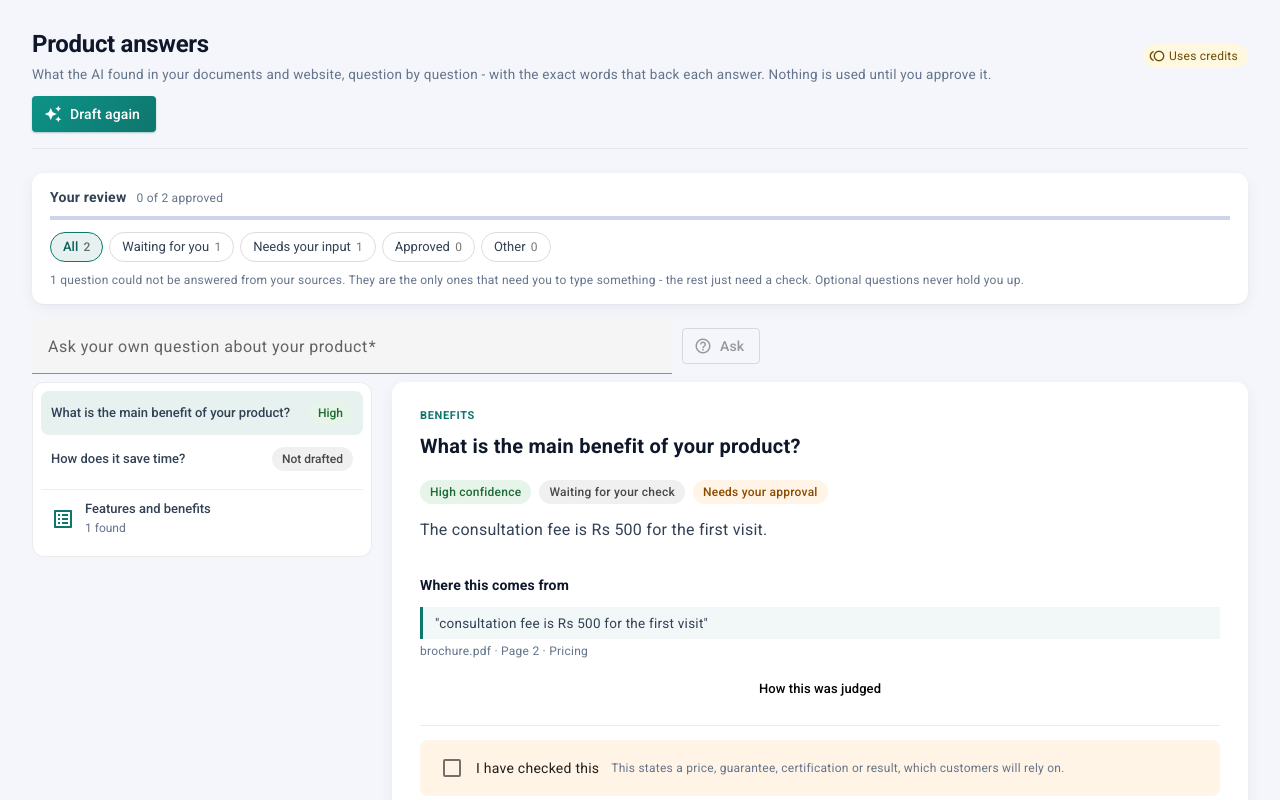
Test case: ProductAnswersComponent › lists the features and benefits with their evidence and flags an unproven number
Step 1. Click the button with test id "features-item" → (202,518), box left=41, top=489, right=363, bottom=548
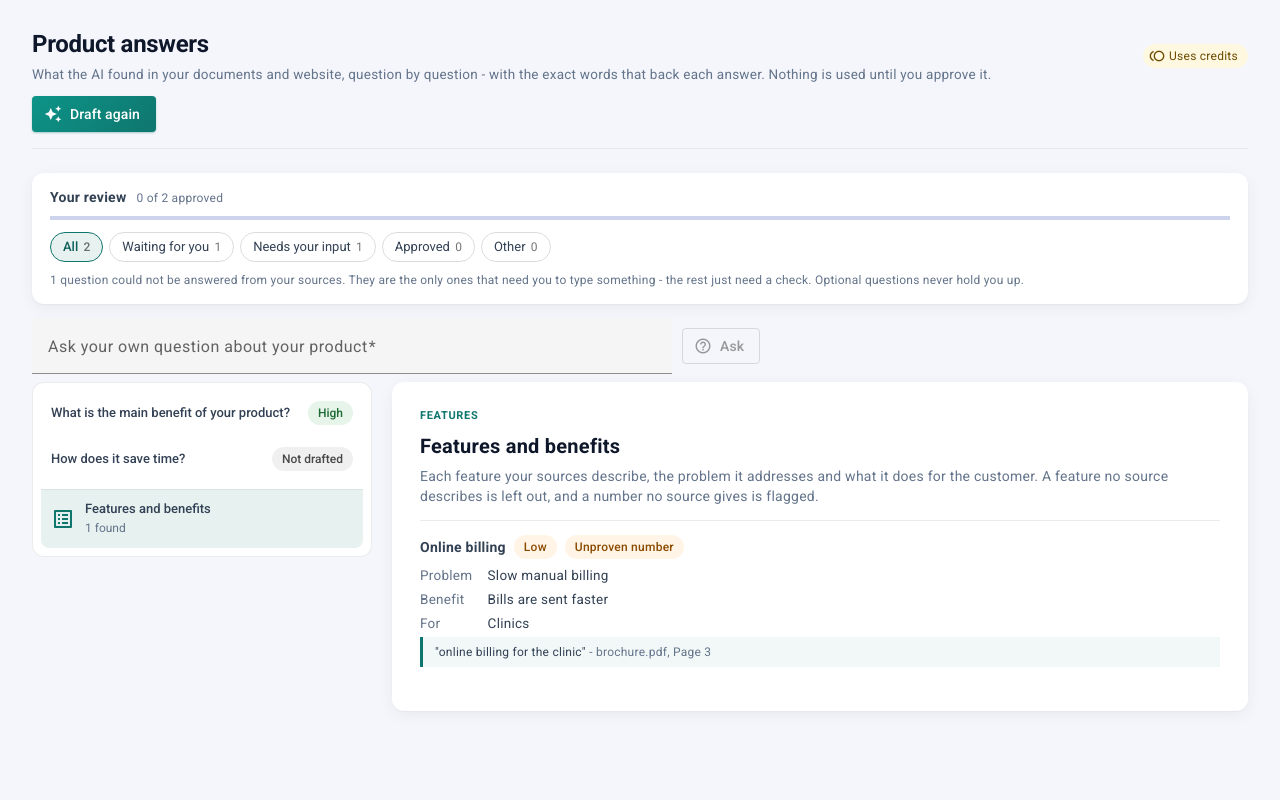
Result: the element with test id "feature" shows "Online billing" at left=420, top=539, right=506, bottom=555
Result: the element with test id "feature" shows "Unproven number" at left=575, top=540, right=674, bottom=554
Result: the element with test id "feature" shows "\"online billing for the clinic\"" at left=435, top=645, right=589, bottom=659
